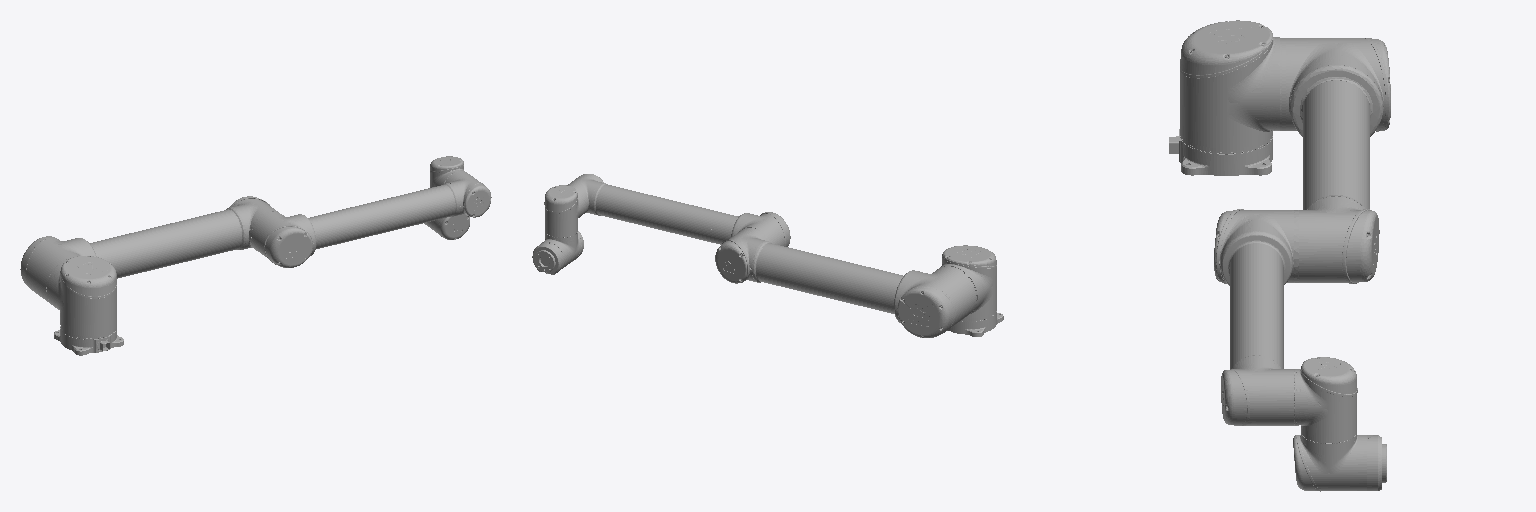
URDF robot description (ur10_robot):
<?xml version="1.0" ?>
<!-- =================================================================================== -->
<!-- |    This document was autogenerated by xacro from /root/catkin_ws/src/universal_robot/ur_description/urdf/ur10.xacro | -->
<!-- |    EDITING THIS FILE BY HAND IS NOT RECOMMENDED                                 | -->
<!-- =================================================================================== -->
<robot name="ur10_robot">
  <!--
    Base UR robot series xacro macro.

    NOTE: this is NOT a URDF. It cannot directly be loaded by consumers
    expecting a flattened '.urdf' file. See the top-level '.xacro' for that
    (but note: that .xacro must still be processed by the xacro command).

    For use in '.launch' files: use one of the 'load_urX.launch' convenience
    launch files.

    This file models the base kinematic chain of a UR robot, which then gets
    parameterised by various configuration files to convert it into a UR3(e),
    UR5(e), UR10(e) or UR16e.

    NOTE: the default kinematic parameters (ie: link lengths, frame locations,
    offets, etc) do not correspond to any particular robot. They are defaults
    only. There WILL be non-zero offsets between the Forward Kinematics results
    in TF (ie: robot_state_publisher) and the values reported by the Teach
    Pendant.

    For accurate (and robot-specific) transforms, the 'kinematics_parameters_file'
    parameter MUST point to a .yaml file containing the appropriate values for
    the targetted robot.

    If using the UniversalRobots/Universal_Robots_ROS_Driver, follow the steps
    described in the readme of that repository to extract the kinematic
    calibration from the controller and generate the required .yaml file.

    Main author of the migration to yaml configs: [author].

    Contributors to previous versions (in no particular order):

     - [author]
     - [author]
     - [author]
     - [author]
     - [author]
     - [author]
     - [author]
     - [author]
     - [author]
     - [author]
     - [author]
     - [author]
     - [author]
     - [author]
     - [author]
     - [author]
     - [author]
  -->
  <!--
    NOTE: the macro defined in this file is NOT part of the public API of this
          package. Users CANNOT rely on this file being available, or stored in
          this location. Nor can they rely on the existence of the macro.
  -->
  <transmission name="shoulder_pan_trans">
    <type>transmission_interface/SimpleTransmission</type>
    <joint name="shoulder_pan_joint">
      <hardwareInterface>hardware_interface/PositionJointInterface</hardwareInterface>
    </joint>
    <actuator name="shoulder_pan_motor">
      <mechanicalReduction>1</mechanicalReduction>
    </actuator>
  </transmission>
  <transmission name="shoulder_lift_trans">
    <type>transmission_interface/SimpleTransmission</type>
    <joint name="shoulder_lift_joint">
      <hardwareInterface>hardware_interface/PositionJointInterface</hardwareInterface>
    </joint>
    <actuator name="shoulder_lift_motor">
      <mechanicalReduction>1</mechanicalReduction>
    </actuator>
  </transmission>
  <transmission name="elbow_trans">
    <type>transmission_interface/SimpleTransmission</type>
    <joint name="elbow_joint">
      <hardwareInterface>hardware_interface/PositionJointInterface</hardwareInterface>
    </joint>
    <actuator name="elbow_motor">
      <mechanicalReduction>1</mechanicalReduction>
    </actuator>
  </transmission>
  <transmission name="wrist_1_trans">
    <type>transmission_interface/SimpleTransmission</type>
    <joint name="wrist_1_joint">
      <hardwareInterface>hardware_interface/PositionJointInterface</hardwareInterface>
    </joint>
    <actuator name="wrist_1_motor">
      <mechanicalReduction>1</mechanicalReduction>
    </actuator>
  </transmission>
  <transmission name="wrist_2_trans">
    <type>transmission_interface/SimpleTransmission</type>
    <joint name="wrist_2_joint">
      <hardwareInterface>hardware_interface/PositionJointInterface</hardwareInterface>
    </joint>
    <actuator name="wrist_2_motor">
      <mechanicalReduction>1</mechanicalReduction>
    </actuator>
  </transmission>
  <transmission name="wrist_3_trans">
    <type>transmission_interface/SimpleTransmission</type>
    <joint name="wrist_3_joint">
      <hardwareInterface>hardware_interface/PositionJointInterface</hardwareInterface>
    </joint>
    <actuator name="wrist_3_motor">
      <mechanicalReduction>1</mechanicalReduction>
    </actuator>
  </transmission>
  <!-- links: main serial chain -->
  <link name="base_link"/>
  <link name="base_link_inertia">
    <visual>
      <origin rpy="0 0 3.141592653589793" xyz="0 0 0"/>
      <geometry>
        <mesh filename="package://ur_description/meshes/ur10/visual/base.dae"/>
      </geometry>
      <material name="LightGrey">
        <color rgba="0.7 0.7 0.7 1.0"/>
      </material>
    </visual>
    <collision>
      <origin rpy="0 0 3.141592653589793" xyz="0 0 0"/>
      <geometry>
        <mesh filename="package://ur_description/meshes/ur10/collision/base.stl"/>
      </geometry>
    </collision>
    <inertial>
      <mass value="4.0"/>
      <origin rpy="0 0 0" xyz="0 0 0"/>
      <inertia ixx="0.0061063308908" ixy="0.0" ixz="0.0" iyy="0.0061063308908" iyz="0.0" izz="0.01125"/>
    </inertial>
  </link>
  <link name="shoulder_link">
    <visual>
      <origin rpy="0 0 3.141592653589793" xyz="0 0 0"/>
      <geometry>
        <mesh filename="package://ur_description/meshes/ur10/visual/shoulder.dae"/>
      </geometry>
      <material name="LightGrey">
        <color rgba="0.7 0.7 0.7 1.0"/>
      </material>
    </visual>
    <collision>
      <origin rpy="0 0 3.141592653589793" xyz="0 0 0"/>
      <geometry>
        <mesh filename="package://ur_description/meshes/ur10/collision/shoulder.stl"/>
      </geometry>
    </collision>
    <inertial>
      <mass value="7.778"/>
      <origin rpy="0 0 0" xyz="0 0 0"/>
      <inertia ixx="0.03147431257693659" ixy="0.0" ixz="0.0" iyy="0.03147431257693659" iyz="0.0" izz="0.021875624999999996"/>
    </inertial>
  </link>
  <link name="upper_arm_link">
    <visual>
      <origin rpy="1.5707963267948966 0 -1.5707963267948966" xyz="0 0 0.220941"/>
      <geometry>
        <mesh filename="package://ur_description/meshes/ur10/visual/upperarm.dae"/>
      </geometry>
      <material name="LightGrey">
        <color rgba="0.7 0.7 0.7 1.0"/>
      </material>
    </visual>
    <collision>
      <origin rpy="1.5707963267948966 0 -1.5707963267948966" xyz="0 0 0.220941"/>
      <geometry>
        <mesh filename="package://ur_description/meshes/ur10/collision/upperarm.stl"/>
      </geometry>
    </collision>
    <inertial>
      <mass value="12.93"/>
      <origin rpy="0 1.5707963267948966 0" xyz="-0.306 0.0 0.175"/>
      <inertia ixx="0.42175380379841093" ixy="0.0" ixz="0.0" iyy="0.42175380379841093" iyz="0.0" izz="0.03636562499999999"/>
    </inertial>
  </link>
  <link name="forearm_link">
    <visual>
      <origin rpy="1.5707963267948966 0 -1.5707963267948966" xyz="0 0 0.049042"/>
      <geometry>
        <mesh filename="package://ur_description/meshes/ur10/visual/forearm.dae"/>
      </geometry>
      <material name="LightGrey">
        <color rgba="0.7 0.7 0.7 1.0"/>
      </material>
    </visual>
    <collision>
      <origin rpy="1.5707963267948966 0 -1.5707963267948966" xyz="0 0 0.049042"/>
      <geometry>
        <mesh filename="package://ur_description/meshes/ur10/collision/forearm.stl"/>
      </geometry>
    </collision>
    <inertial>
      <mass value="3.87"/>
      <origin rpy="0 1.5707963267948966 0" xyz="-0.28615 0.0 0.049042"/>
      <inertia ixx="0.11106969409710458" ixy="0.0" ixz="0.0" iyy="0.11106969409710458" iyz="0.0" izz="0.010884375"/>
    </inertial>
  </link>
  <link name="wrist_1_link">
    <visual>
      <!-- TODO: Move this to a parameter -->
      <origin rpy="1.5707963267948966 0 0" xyz="0 0 -0.1149"/>
      <geometry>
        <mesh filename="package://ur_description/meshes/ur10/visual/wrist1.dae"/>
      </geometry>
      <material name="LightGrey">
        <color rgba="0.7 0.7 0.7 1.0"/>
      </material>
    </visual>
    <collision>
      <origin rpy="1.5707963267948966 0 0" xyz="0 0 -0.1149"/>
      <geometry>
        <mesh filename="package://ur_description/meshes/ur10/collision/wrist1.stl"/>
      </geometry>
    </collision>
    <inertial>
      <mass value="1.96"/>
      <origin rpy="0 0 0" xyz="0 0 0"/>
      <inertia ixx="0.005108247956699999" ixy="0.0" ixz="0.0" iyy="0.005108247956699999" iyz="0.0" izz="0.005512499999999999"/>
    </inertial>
  </link>
  <link name="wrist_2_link">
    <visual>
      <origin rpy="0 0 0" xyz="0 0 -0.1158"/>
      <geometry>
        <mesh filename="package://ur_description/meshes/ur10/visual/wrist2.dae"/>
      </geometry>
      <material name="LightGrey">
        <color rgba="0.7 0.7 0.7 1.0"/>
      </material>
    </visual>
    <collision>
      <origin rpy="0 0 0" xyz="0 0 -0.1158"/>
      <geometry>
        <mesh filename="package://ur_description/meshes/ur10/collision/wrist2.stl"/>
      </geometry>
    </collision>
    <inertial>
      <mass value="1.96"/>
      <origin rpy="0 0 0" xyz="0 0 0"/>
      <inertia ixx="0.0040792483683" ixy="0.0" ixz="0.0" iyy="0.0040792483683" iyz="0.0" izz="0.005512499999999999"/>
    </inertial>
  </link>
  <link name="wrist_3_link">
    <visual>
      <origin rpy="1.5707963267948966 0 0" xyz="0 0 -0.0922"/>
      <geometry>
        <mesh filename="package://ur_description/meshes/ur10/visual/wrist3.dae"/>
      </geometry>
      <material name="LightGrey">
        <color rgba="0.7 0.7 0.7 1.0"/>
      </material>
    </visual>
    <collision>
      <origin rpy="1.5707963267948966 0 0" xyz="0 0 -0.0922"/>
      <geometry>
        <mesh filename="package://ur_description/meshes/ur10/collision/wrist3.stl"/>
      </geometry>
    </collision>
    <inertial>
      <mass value="0.202"/>
      <origin rpy="0 0 0" xyz="0.0 0.0 -0.01525"/>
      <inertia ixx="0.00011792166116465" ixy="0.0" ixz="0.0" iyy="0.00011792166116465" iyz="0.0" izz="0.00020452500000000002"/>
    </inertial>
  </link>
  <!-- joints: main serial chain -->
  <joint name="base_link-base_link_inertia" type="fixed">
    <parent link="base_link"/>
    <child link="base_link_inertia"/>
    <!-- 'base_link' is REP-103 aligned (so X+ forward), while the internal
           frames of the robot/controller have X+ pointing backwards.
           Use the joint between 'base_link' and 'base_link_inertia' (a dummy
           link/frame) to introduce the necessary rotation over Z (of pi rad).
      -->
    <origin rpy="0 0 3.141592653589793" xyz="0 0 0"/>
  </joint>
  <joint name="shoulder_pan_joint" type="revolute">
    <parent link="base_link_inertia"/>
    <child link="shoulder_link"/>
    <origin rpy="0 0 0" xyz="0 0 0.1273"/>
    <axis xyz="0 0 1"/>
    <limit effort="330.0" lower="-6.283185307179586" upper="6.283185307179586" velocity="2.0943951023931953"/>
    <dynamics damping="0" friction="0"/>
  </joint>
  <joint name="shoulder_lift_joint" type="revolute">
    <parent link="shoulder_link"/>
    <child link="upper_arm_link"/>
    <origin rpy="1.570796327 0 0" xyz="0 0 0"/>
    <axis xyz="0 0 1"/>
    <limit effort="330.0" lower="-6.283185307179586" upper="6.283185307179586" velocity="2.0943951023931953"/>
    <dynamics damping="0" friction="0"/>
  </joint>
  <joint name="elbow_joint" type="revolute">
    <parent link="upper_arm_link"/>
    <child link="forearm_link"/>
    <origin rpy="0 0 0" xyz="-0.612 0 0"/>
    <axis xyz="0 0 1"/>
    <limit effort="150.0" lower="-3.141592653589793" upper="3.141592653589793" velocity="3.141592653589793"/>
    <dynamics damping="0" friction="0"/>
  </joint>
  <joint name="wrist_1_joint" type="revolute">
    <parent link="forearm_link"/>
    <child link="wrist_1_link"/>
    <origin rpy="0 0 0" xyz="-0.5723 0 0.163941"/>
    <axis xyz="0 0 1"/>
    <limit effort="56.0" lower="-6.283185307179586" upper="6.283185307179586" velocity="3.141592653589793"/>
    <dynamics damping="0" friction="0"/>
  </joint>
  <joint name="wrist_2_joint" type="revolute">
    <parent link="wrist_1_link"/>
    <child link="wrist_2_link"/>
    <origin rpy="1.570796327 0 0" xyz="0 -0.1157 -2.373046667922381e-11"/>
    <axis xyz="0 0 1"/>
    <limit effort="56.0" lower="-6.283185307179586" upper="6.283185307179586" velocity="3.141592653589793"/>
    <dynamics damping="0" friction="0"/>
  </joint>
  <joint name="wrist_3_joint" type="revolute">
    <parent link="wrist_2_link"/>
    <child link="wrist_3_link"/>
    <origin rpy="1.570796326589793 3.141592653589793 3.141592653589793" xyz="0 0.0922 -1.891053610911353e-11"/>
    <axis xyz="0 0 1"/>
    <limit effort="56.0" lower="-6.283185307179586" upper="6.283185307179586" velocity="3.141592653589793"/>
    <dynamics damping="0" friction="0"/>
  </joint>
  <!-- ROS-Industrial 'base' frame: base_link to UR 'Base' Coordinates transform -->
  <link name="base"/>
  <joint name="base_link-base_fixed_joint" type="fixed">
    <!-- Note the rotation over Z of pi radians: as base_link is REP-103
           aligned (ie: has X+ forward, Y+ left and Z+ up), this is needed
           to correctly align 'base' with the 'Base' coordinate system of
           the UR controller.
      -->
    <origin rpy="0 0 3.141592653589793" xyz="0 0 0"/>
    <parent link="base_link"/>
    <child link="base"/>
  </joint>
  <!-- ROS-Industrial 'flange' frame: attachment point for EEF models -->
  <link name="flange"/>
  <joint name="wrist_3-flange" type="fixed">
    <parent link="wrist_3_link"/>
    <child link="flange"/>
    <origin rpy="0 -1.5707963267948966 -1.5707963267948966" xyz="0 0 0"/>
  </joint>
  <!-- ROS-Industrial 'tool0' frame: all-zeros tool frame -->
  <link name="tool0"/>
  <joint name="flange-tool0" type="fixed">
    <!-- default toolframe: X+ left, Y+ up, Z+ front -->
    <origin rpy="1.5707963267948966 0 1.5707963267948966" xyz="0 0 0"/>
    <parent link="flange"/>
    <child link="tool0"/>
  </joint>
</robot>

--- What the picture shows (computed from the rendered views, not written in the file) ---
Views: 3 orthographic renders of the robot side by side, from view 1: azimuth 30°, elevation 25°; view 2: azimuth 150°, elevation 25°; view 3: azimuth 270°, elevation 25°.
Model ur10_robot with 11 links and 10 joints (6 revolute, 4 fixed), rooted at base_link, posed every joint at zero.
Visible links, largest first — view 1: upper_arm_link, forearm_link, shoulder_link, base_link_inertia, wrist_2_link, wrist_1_link; view 2: upper_arm_link, forearm_link, shoulder_link, wrist_1_link, wrist_3_link, wrist_2_link, base_link_inertia; view 3: upper_arm_link, forearm_link, shoulder_link, wrist_1_link, wrist_2_link, base_link_inertia, wrist_3_link.
Boxes of the visible links, bbox=[...] form: upper_arm_link: bbox=[20, 196, 278, 304]; forearm_link: bbox=[249, 171, 491, 267]; shoulder_link: bbox=[48, 256, 116, 339]; base_link_inertia: bbox=[54, 328, 123, 355]; wrist_2_link: bbox=[424, 214, 469, 239]; wrist_1_link: bbox=[430, 156, 463, 187]; upper_arm_link: bbox=[711, 229, 976, 337]; forearm_link: bbox=[567, 174, 790, 246]; shoulder_link: bbox=[940, 245, 996, 321]; wrist_1_link: bbox=[544, 185, 585, 237]; wrist_3_link: bbox=[532, 242, 563, 274]; wrist_2_link: bbox=[542, 231, 583, 268]; base_link_inertia: bbox=[948, 313, 1003, 336]; upper_arm_link: bbox=[1280, 38, 1390, 283]; forearm_link: bbox=[1214, 209, 1298, 425]; shoulder_link: bbox=[1180, 20, 1279, 154]; wrist_1_link: bbox=[1295, 357, 1357, 443]; wrist_2_link: bbox=[1293, 435, 1366, 491]; base_link_inertia: bbox=[1169, 129, 1272, 175]; wrist_3_link: bbox=[1367, 435, 1386, 490].
Size in the robot's own frame: 1.31 by 0.3552 by 0.2634 metres.
Meshes: 7 distinct files referenced, 7 mesh visuals loaded (7 Collada DAE).
